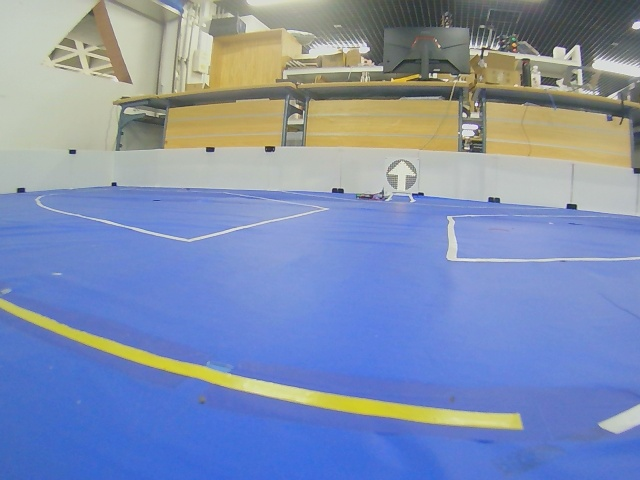straight_yellow: (384, 157, 419, 192)
